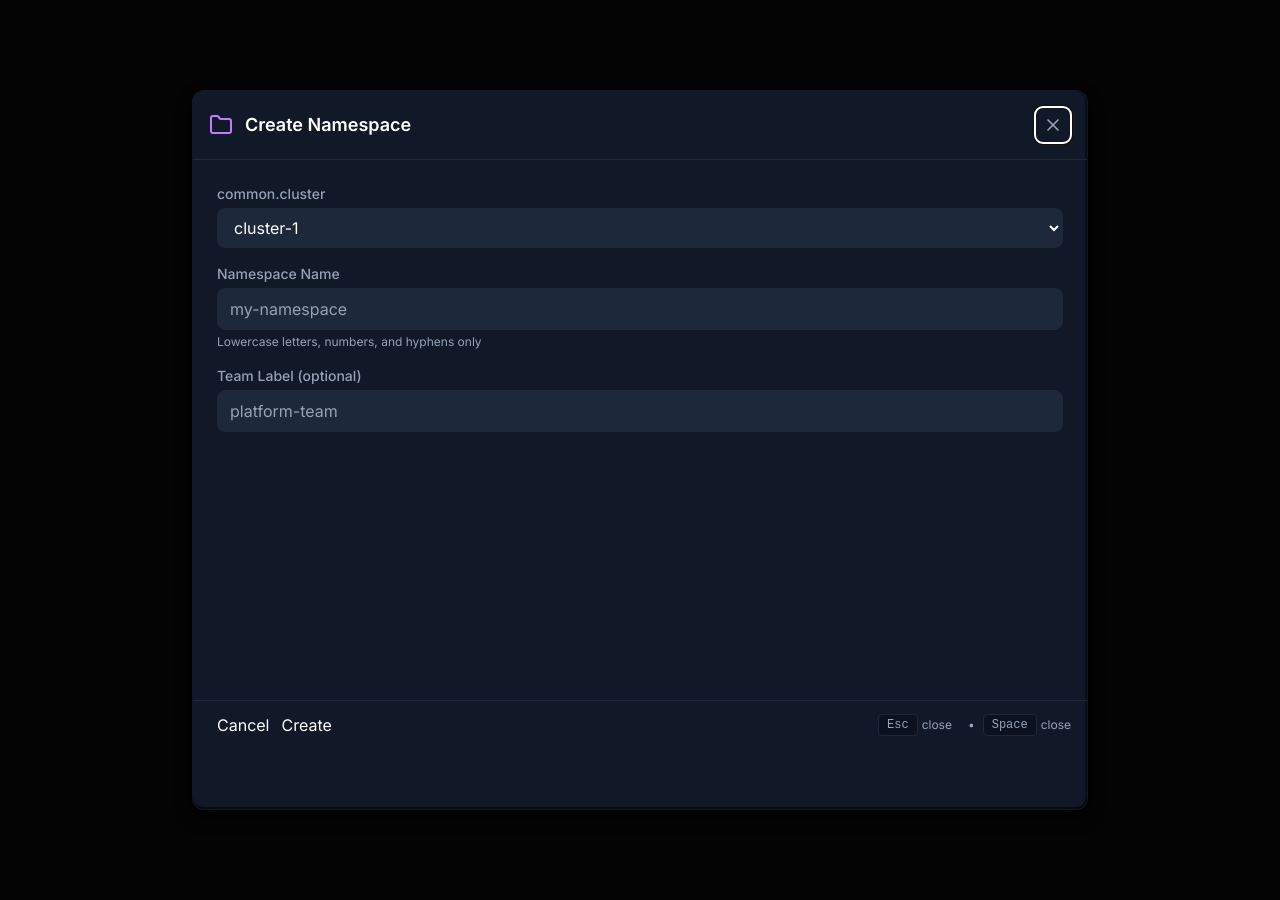
it: CreateNamespaceModal › converts namespace name to lowercase and removes invalid characters
Step 1. Type "MyNamespace_With@Symbols" into the field with placeholder "my-namespace" → (640, 309), box top-left (217, 288), bottom-right (1063, 330)
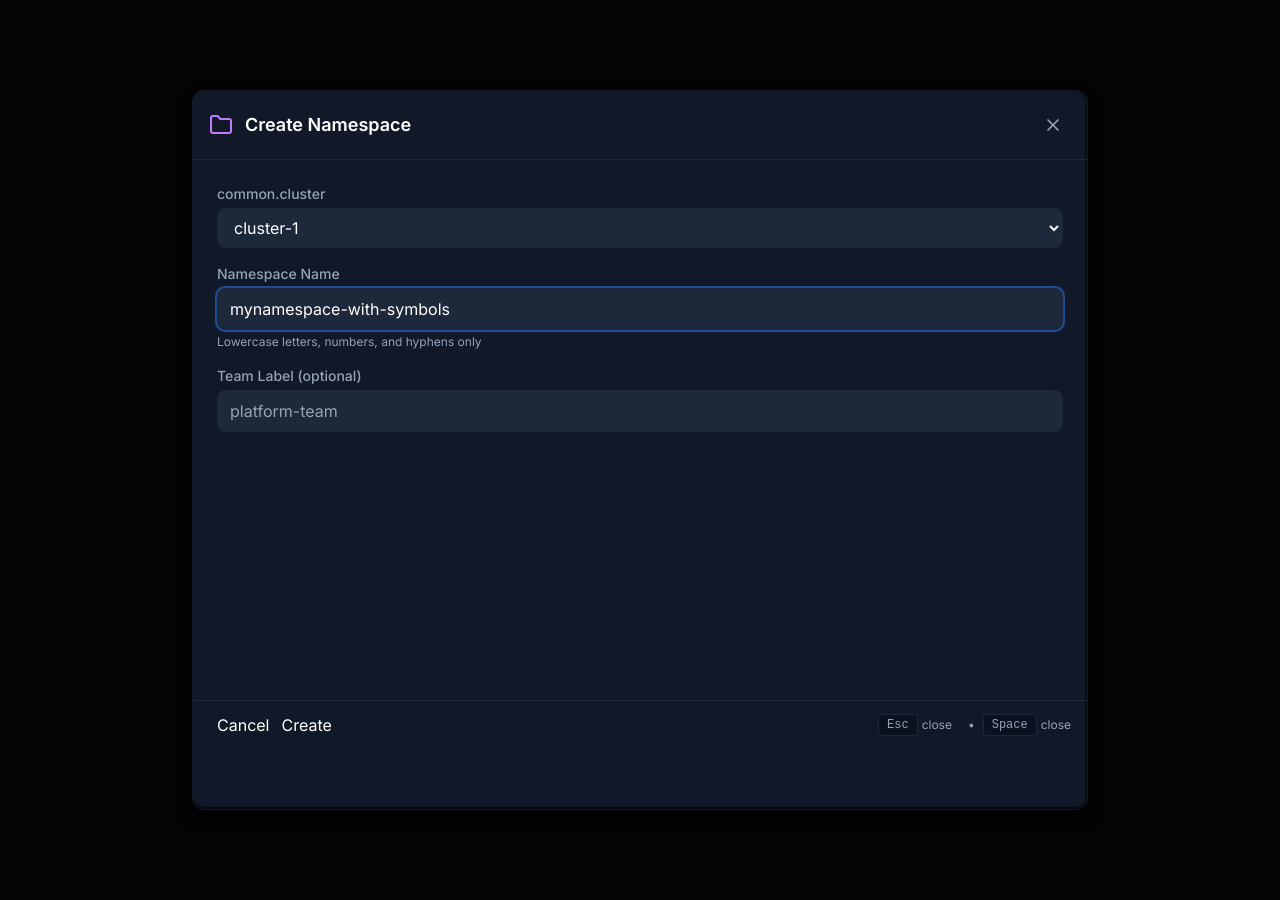
Now the field with placeholder "my-namespace" holds "mynamespace-with-symbols", box top-left (217, 288), bottom-right (1063, 330)
